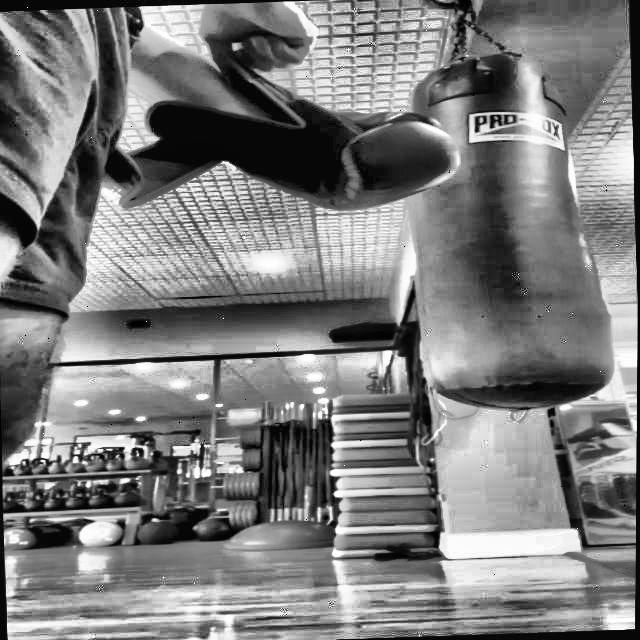boxing-bag: (402, 0, 615, 417)
